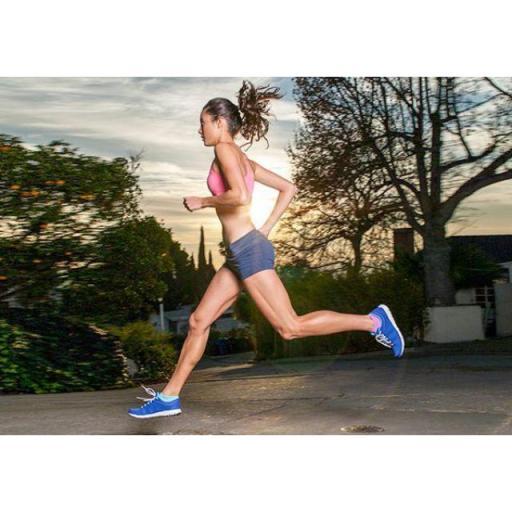Running: (120, 78, 414, 425)
